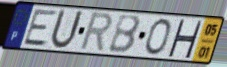B: (107, 14, 142, 55)
E: (21, 9, 60, 48)
H: (166, 18, 204, 60)
O: (143, 17, 172, 57)
R: (77, 11, 115, 54)
U: (48, 8, 85, 52)
